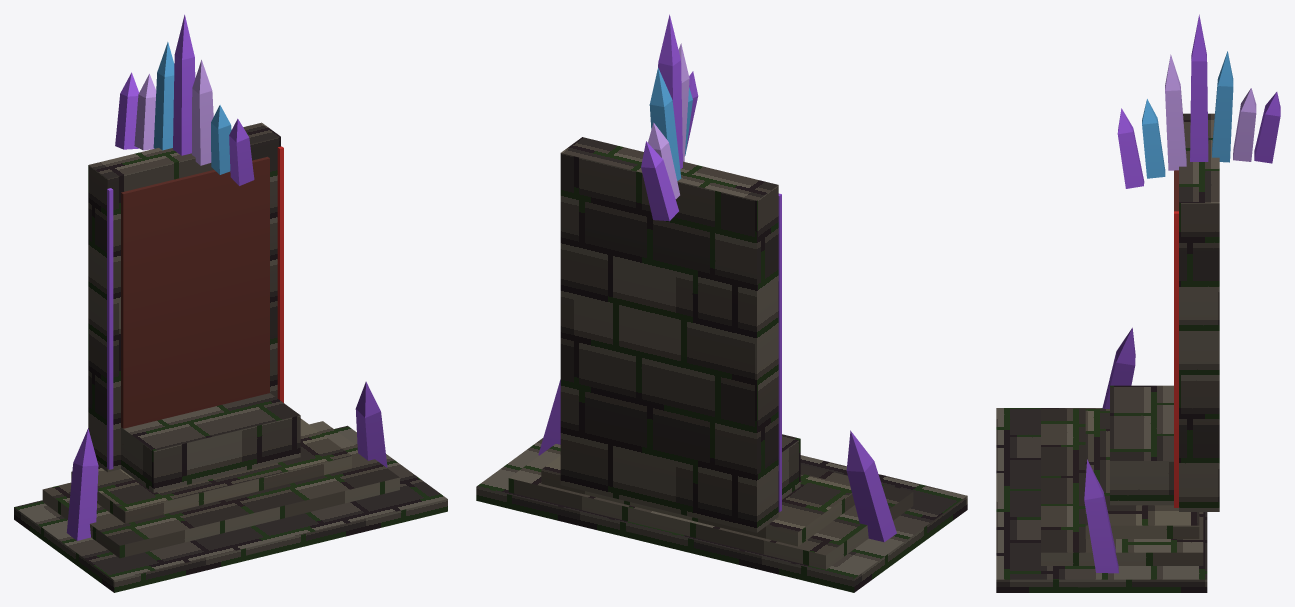
The model's file is sylvaine_throne.glb.
3 renders of one model, left to right at view 1: azimuth 30°, elevation 25°; view 2: azimuth 150°, elevation 25°; view 3: azimuth 270°, elevation 25°, orthographic. The views are drawn at different scales.
Parts seen in each view (by area): view 1: sylvaine_throne; view 2: sylvaine_throne; view 3: sylvaine_throne.
Boxes of the visible parts, bbox=[...] form: sylvaine_throne: bbox=[14, 14, 447, 592]; sylvaine_throne: bbox=[476, 14, 967, 592]; sylvaine_throne: bbox=[996, 14, 1280, 592].
Bounding box in the file's own units: 5 × 6.75 × 3.5.
Materials: 3 (1 with a texture image).
